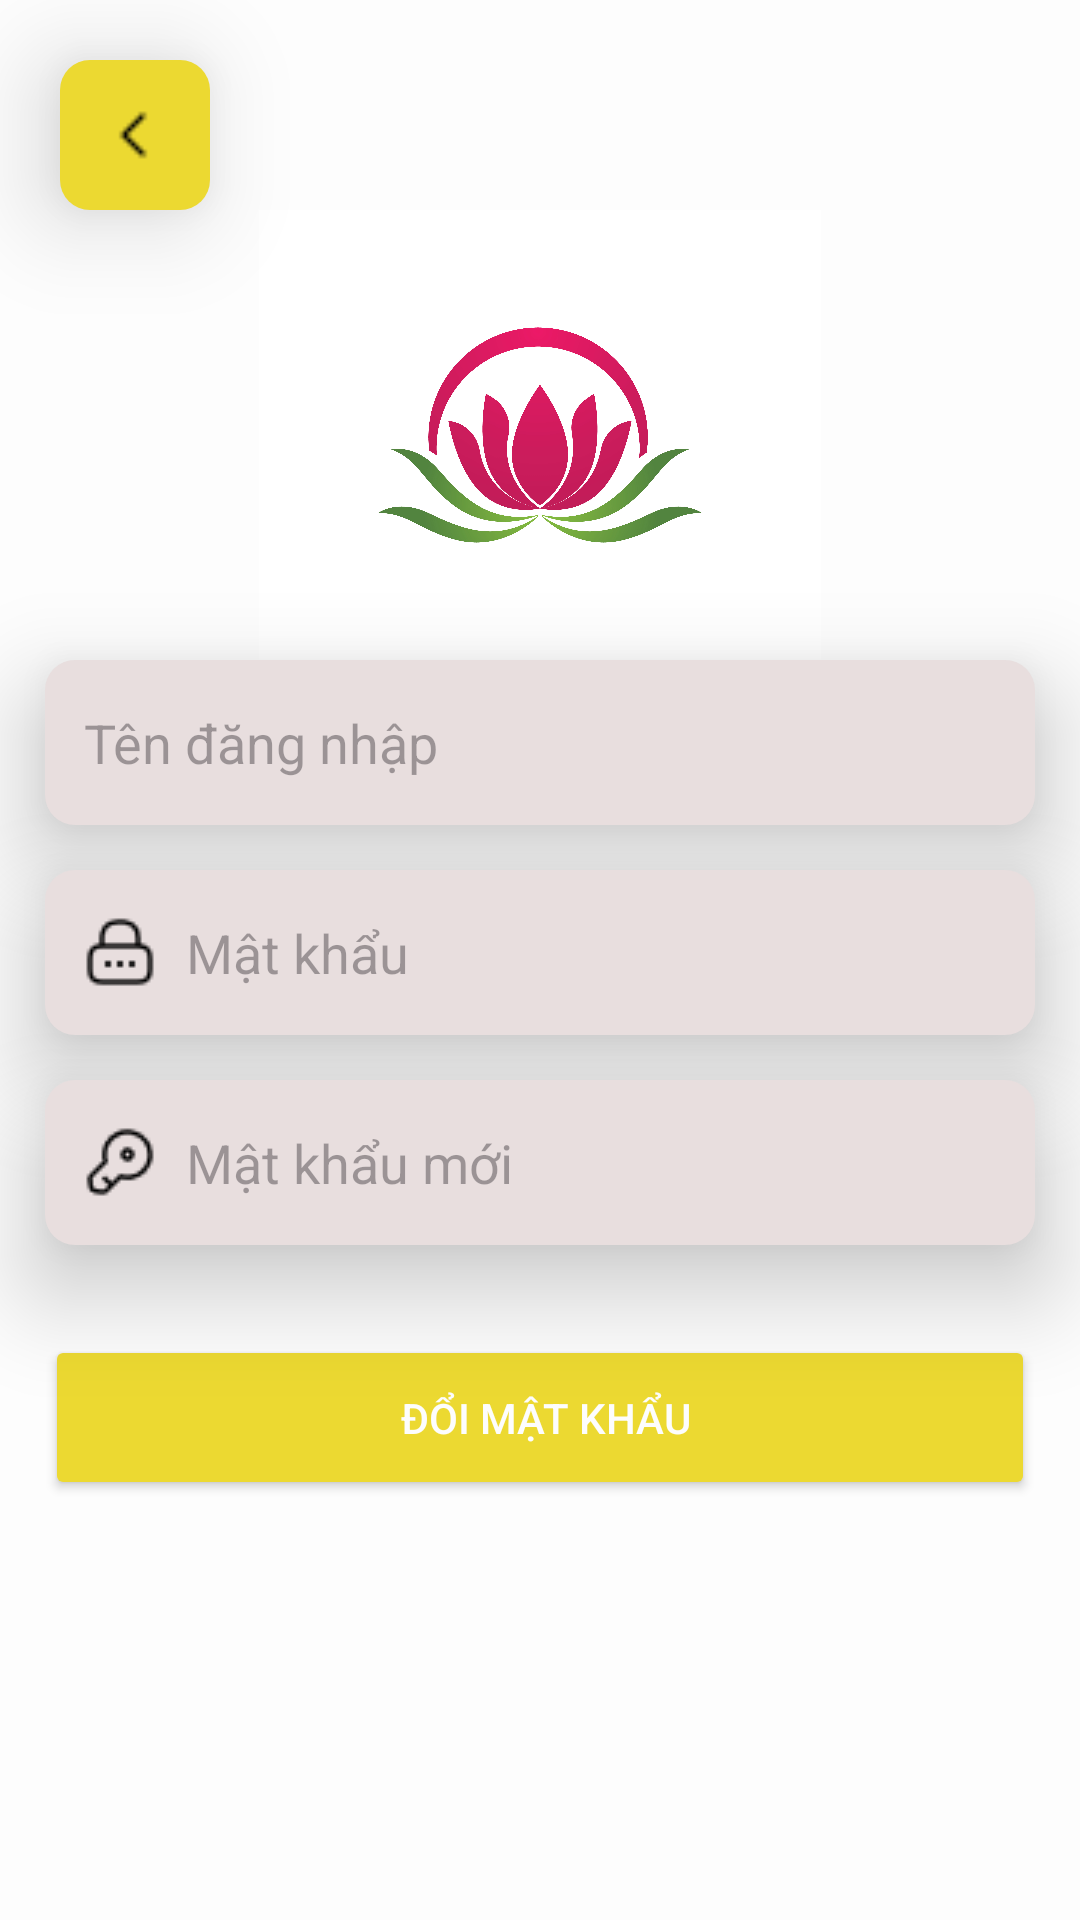

Point at icon controls on the screen. Image size 1080×1920, points as (x=x, y=y).
back: (x=135, y=135)
